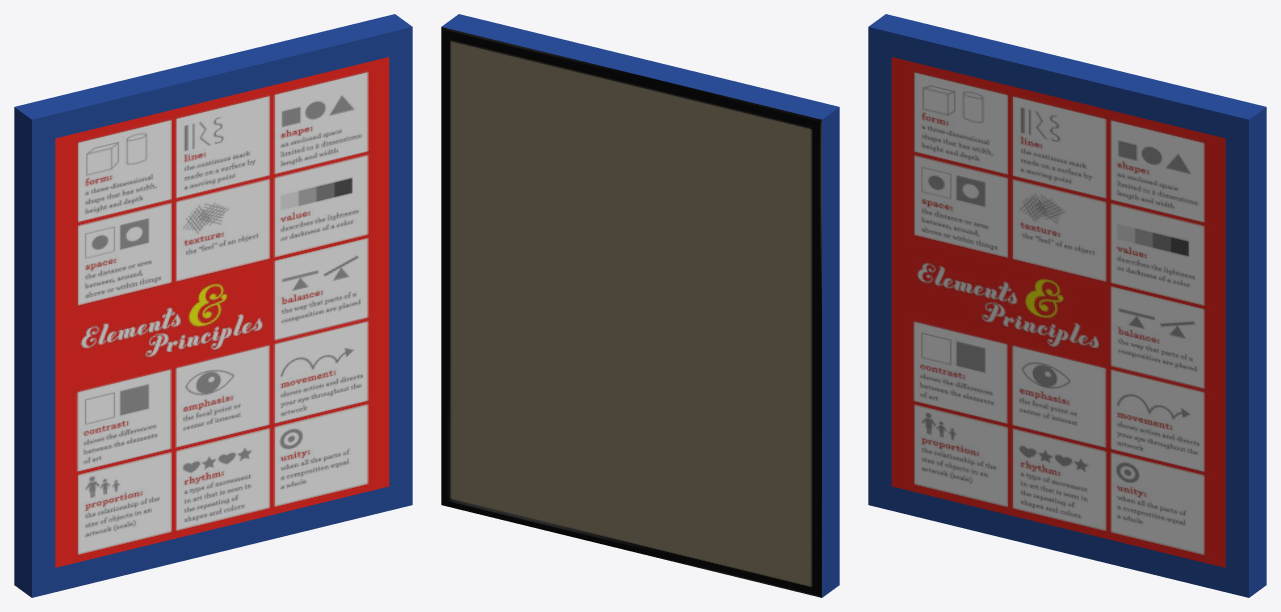
File: poster11.FBX
The picture shows the model from 3 angles, left to right: view 1: azimuth 30°, elevation 25°; view 2: azimuth 150°, elevation 25°; view 3: azimuth 330°, elevation 25°; orthographic projection.
Visible parts, largest first — view 1: poster11; view 2: poster11; view 3: poster11.
Part boxes in pixels (box(x1,y1,x2,y2)): poster11: box(14, 14, 412, 597); poster11: box(441, 14, 839, 597); poster11: box(868, 14, 1266, 597).
Bounding box in the file's own units: 5 × 6 × 0.4.
